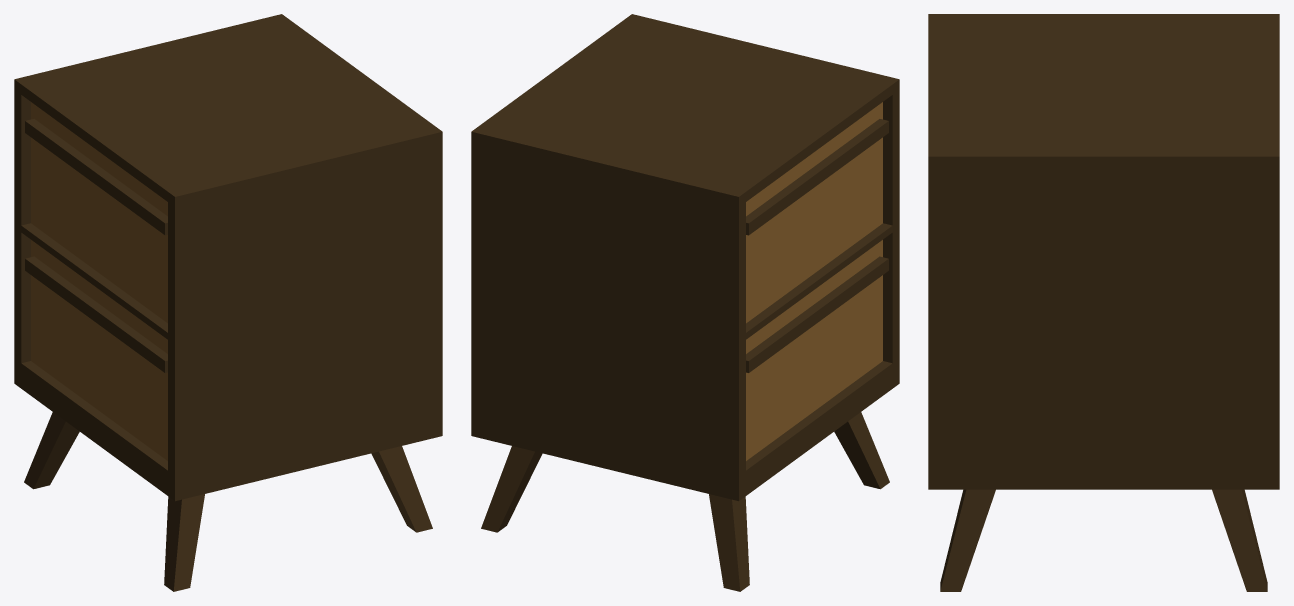
File: Cubboard.fbx
3 renders of one model, left to right at view 1: azimuth 30°, elevation 25°; view 2: azimuth 150°, elevation 25°; view 3: azimuth 270°, elevation 25°, orthographic. The views are drawn at different scales.
Parts seen in each view (by area): view 1: Cubboard; view 2: Cubboard; view 3: Cubboard.
Boxes of the visible parts, x1,y1,x2,y2 form: Cubboard: (14,14,442,591); Cubboard: (471,14,899,591); Cubboard: (928,14,1279,591).
Bounding box in the file's own units: 200 × 286 × 208.
